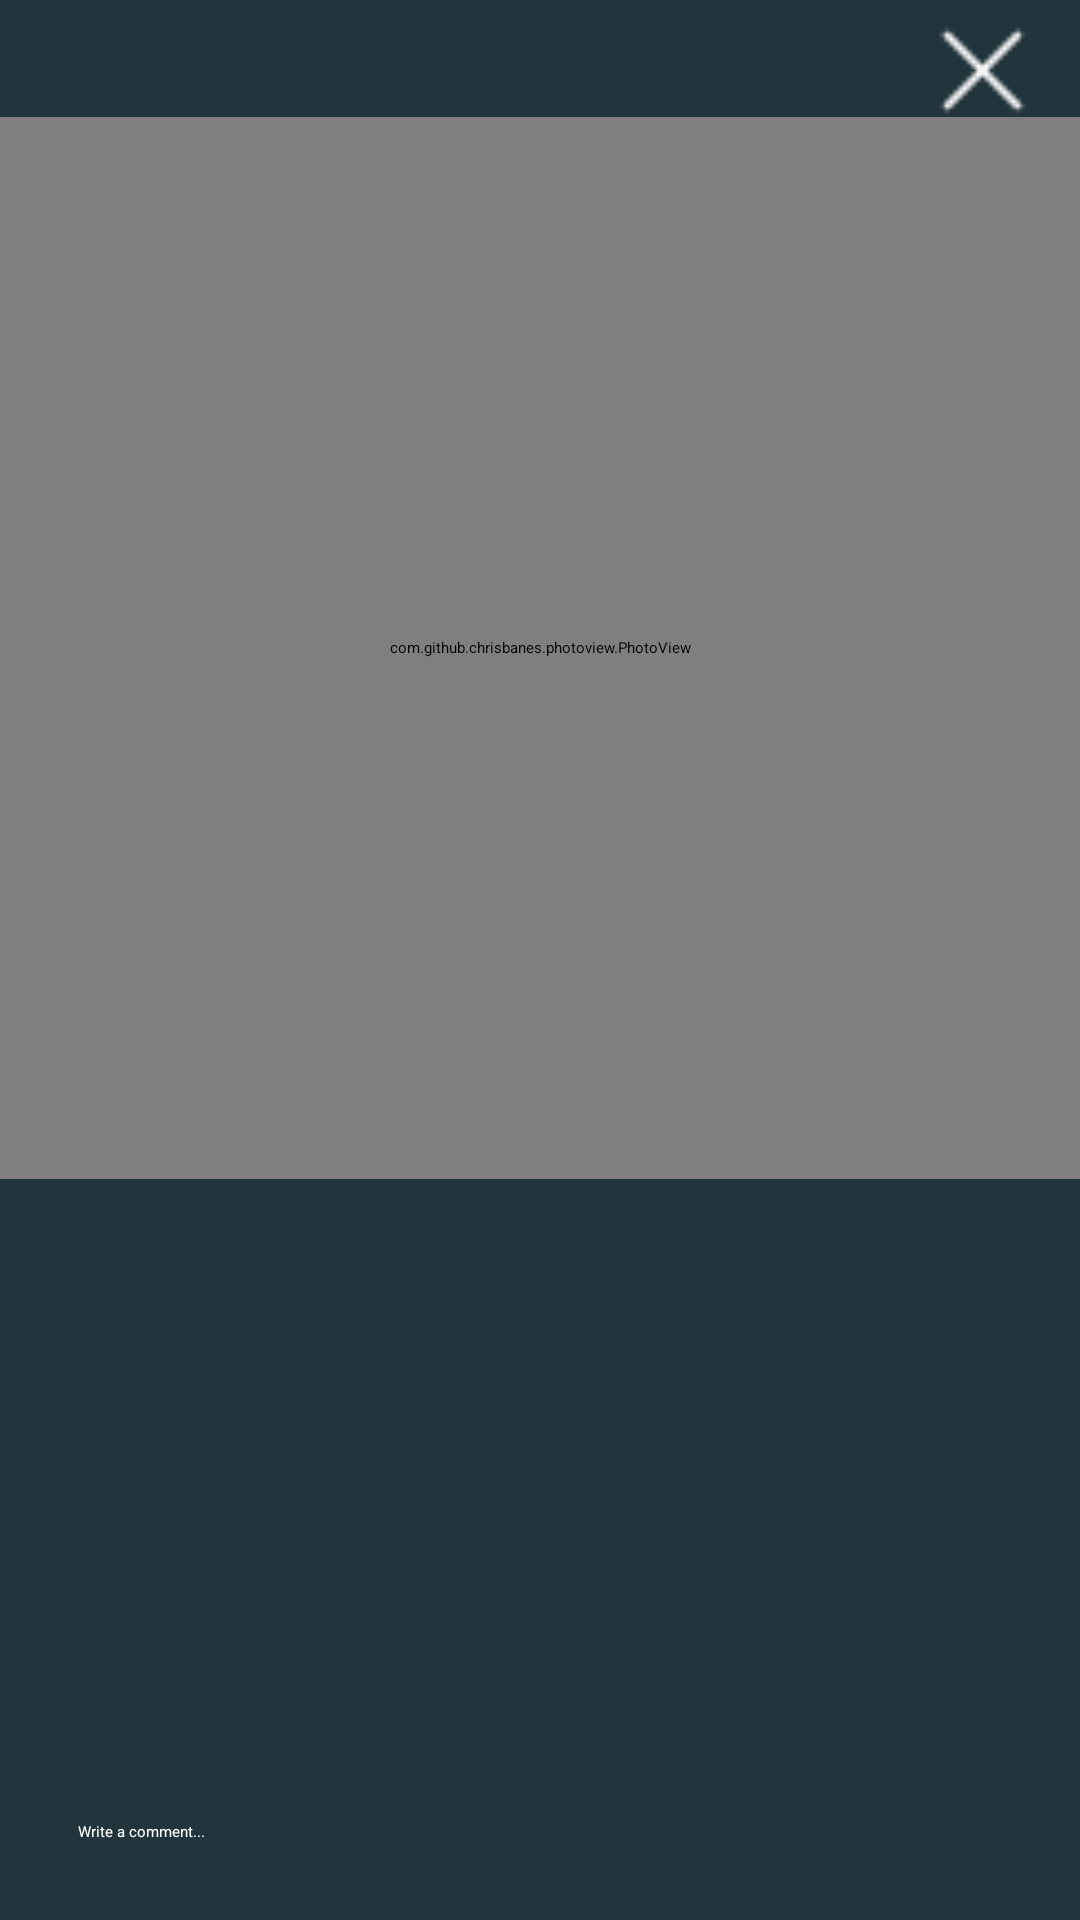

Point at icon controls on the screen. Image size 1080 × 1920, points as (x,y).
close: (982,70)
